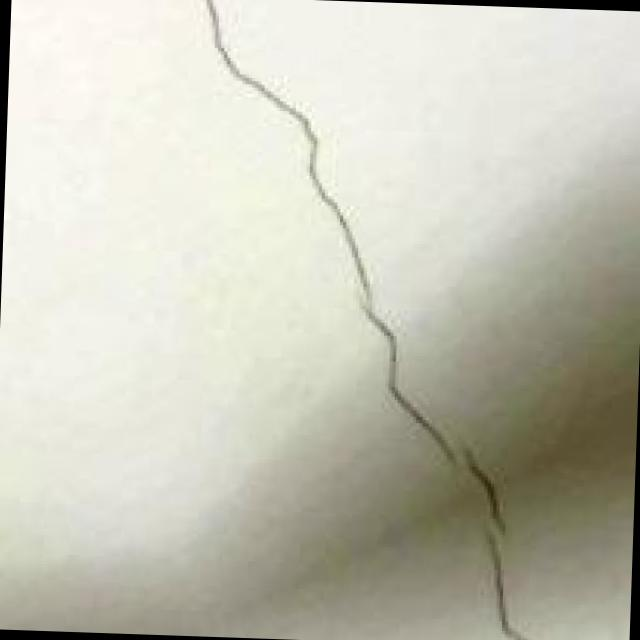crack: (165, 0, 596, 640)
